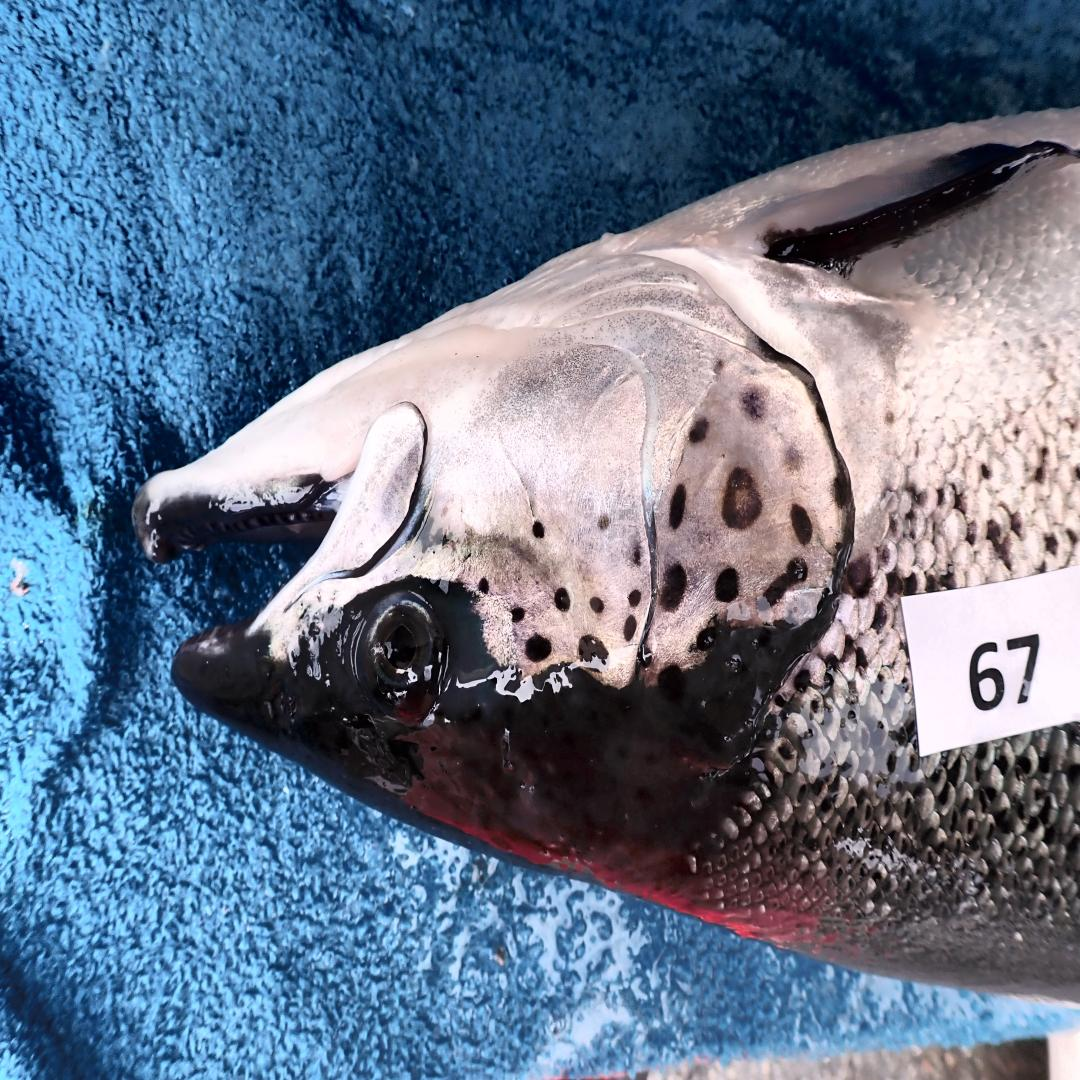spot: (754, 558, 809, 613), (721, 467, 761, 529), (660, 562, 688, 611), (577, 636, 609, 673), (791, 503, 812, 546), (740, 388, 765, 421), (715, 568, 739, 602), (669, 484, 686, 529), (525, 636, 551, 661), (832, 471, 849, 506), (690, 416, 709, 444), (695, 627, 716, 650), (554, 588, 571, 613), (785, 446, 802, 471), (624, 616, 637, 641), (639, 646, 652, 668), (588, 596, 603, 613), (629, 590, 641, 608), (510, 608, 525, 622), (532, 520, 544, 537), (632, 541, 640, 566), (597, 516, 608, 531), (479, 579, 489, 593)
